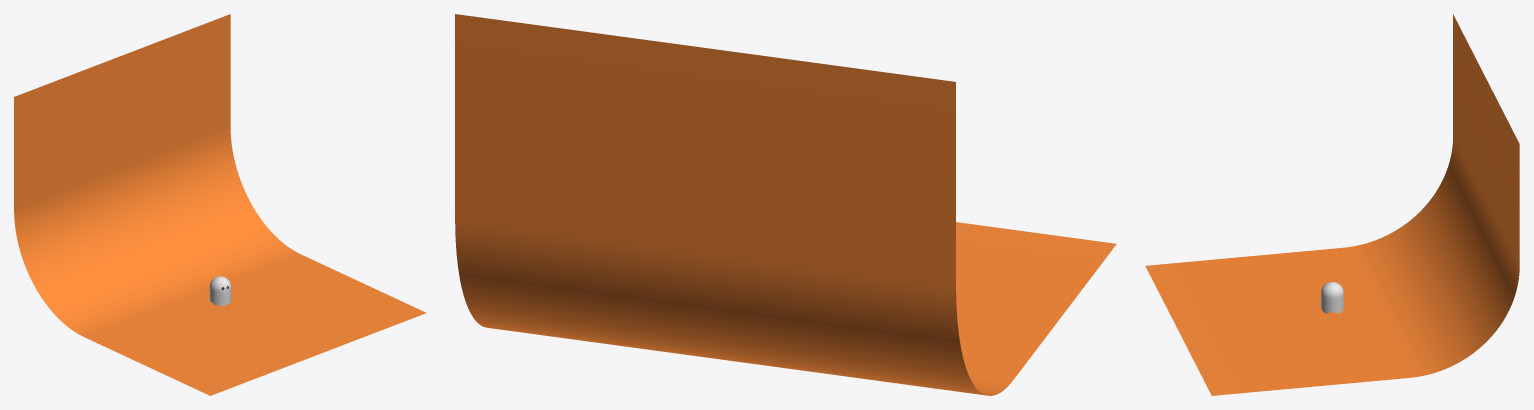
Rendered from uploads_files_3498014_Ghost.fbx.
The picture shows the model from 3 angles, left to right: view 1: azimuth 30°, elevation 25°; view 2: azimuth 150°, elevation 25°; view 3: azimuth 270°, elevation 25°; orthographic projection. The views are drawn at different scales.
Parts seen in each view (by area): view 1: Plane, Sphere; view 2: Plane; view 3: Plane, Sphere.
Part boxes in pixels (left/top/right/bottom): Plane: left=14, top=14, right=426, bottom=395; Sphere: left=209, top=276, right=231, bottom=306; Plane: left=455, top=14, right=1116, bottom=395; Plane: left=1145, top=14, right=1519, bottom=395; Sphere: left=1321, top=282, right=1343, bottom=313.
Bounding box in the file's own units: 3192 × 2104 × 3192.
